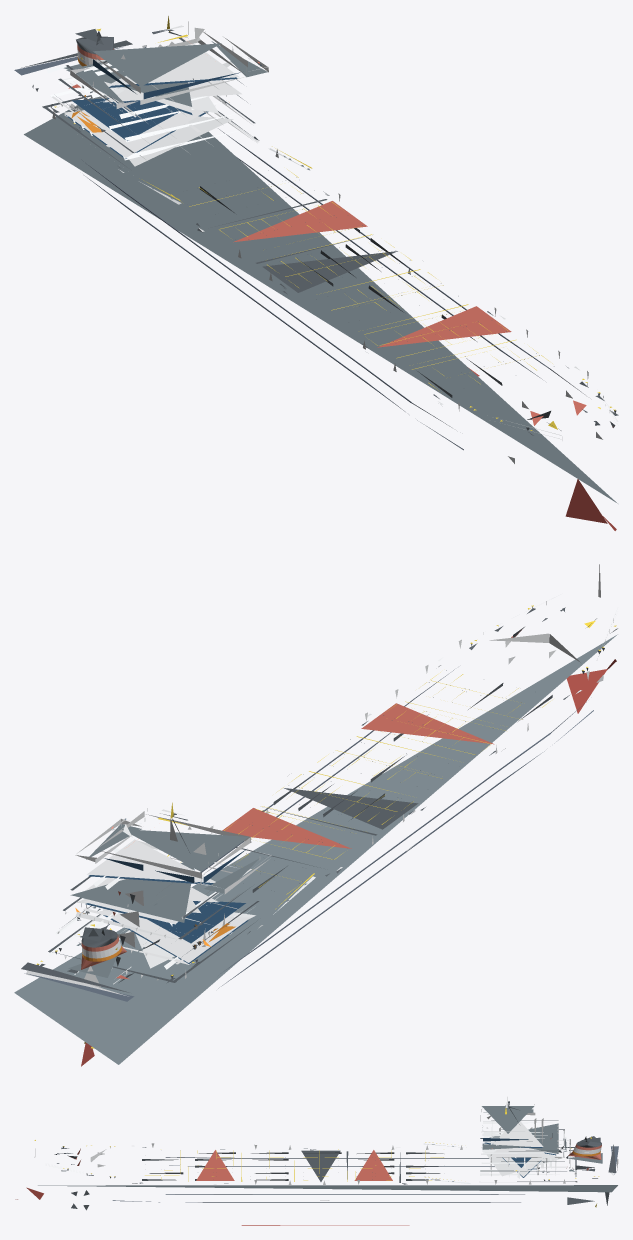
The model's file is ship_22.glb.
3 views of the same model, one above another, from view 1: azimuth 30°, elevation 25°; view 2: azimuth 150°, elevation 25°; view 3: azimuth 270°, elevation 25° (orthographic). The views are drawn at different scales.
Visible parts, largest first — view 1: TrueHelm_Ship_22; view 2: TrueHelm_Ship_22; view 3: TrueHelm_Ship_22.
Boxes of the visible parts, <box> form: TrueHelm_Ship_22: <box>14,16,618,530</box>; TrueHelm_Ship_22: <box>14,564,618,1066</box>; TrueHelm_Ship_22: <box>15,1097,618,1225</box>.
Size of the model in its own units: 0.1363 by 0.176 by 0.8529.
